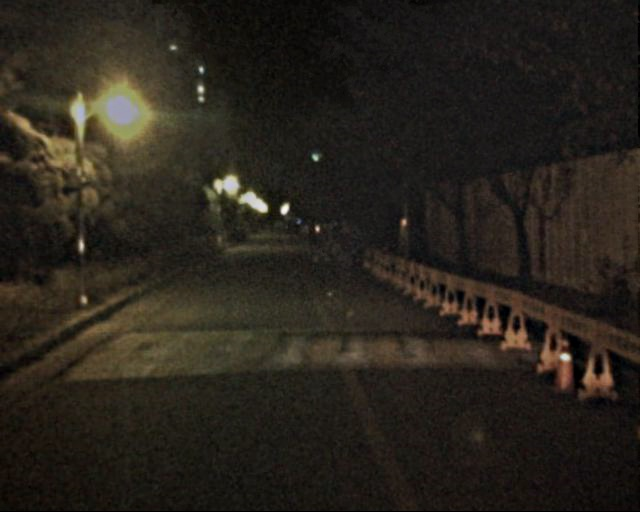person: (332, 218, 355, 273), (347, 223, 365, 268), (320, 221, 337, 262), (306, 222, 322, 261)
